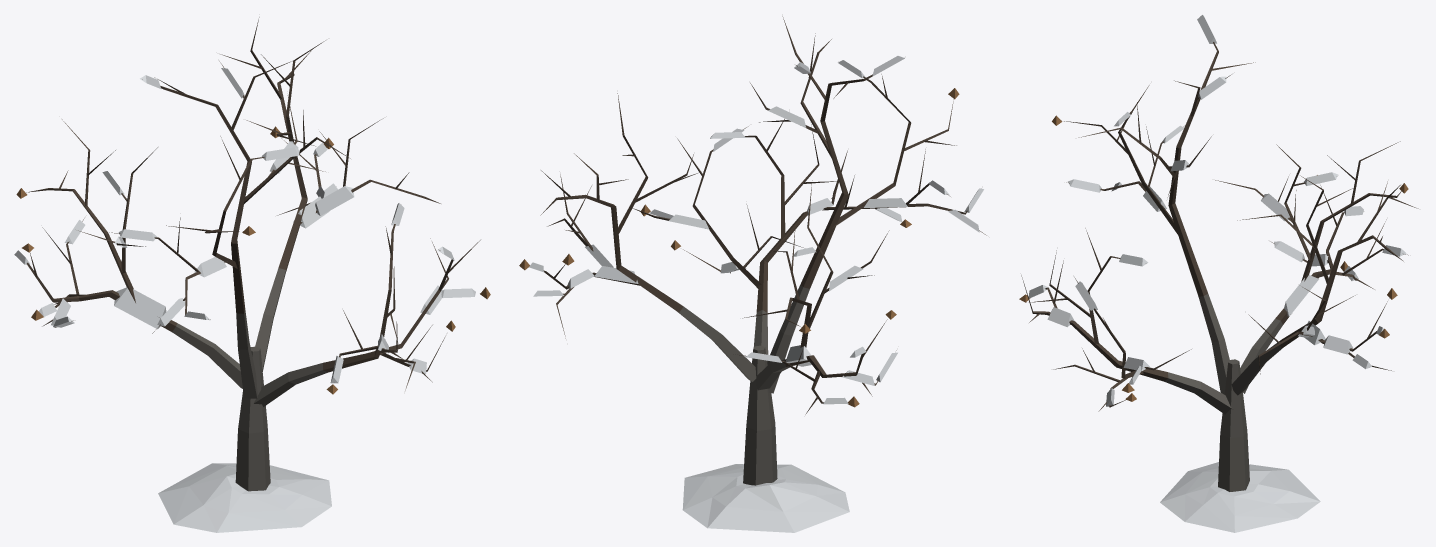
File: bare-mountain-rowan-10e72e.glb
The picture shows the model from 3 angles, left to right: view 1: azimuth 30°, elevation 25°; view 2: azimuth 150°, elevation 25°; view 3: azimuth 270°, elevation 25°; orthographic projection. The views are drawn at different scales.
Visible parts, largest first — view 1: rowan-crown, rowan-bole, rowan-berries; view 2: rowan-crown, rowan-bole, rowan-berries; view 3: rowan-crown, rowan-bole, rowan-berries.
Part boxes in pixels (box(x1,y1,x2,y2)): rowan-crown: box(14, 17, 481, 406); rowan-bole: box(158, 346, 331, 532); rowan-berries: box(16, 126, 490, 394); rowan-crown: box(529, 16, 986, 414); rowan-bole: box(682, 345, 849, 532); rowan-berries: box(519, 88, 959, 407); rowan-crown: box(1021, 15, 1418, 414); rowan-bole: box(1160, 359, 1320, 532); rowan-berries: box(1019, 115, 1408, 401).
Bounding box in the file's own units: 4.37 × 5.03 × 4.3.
